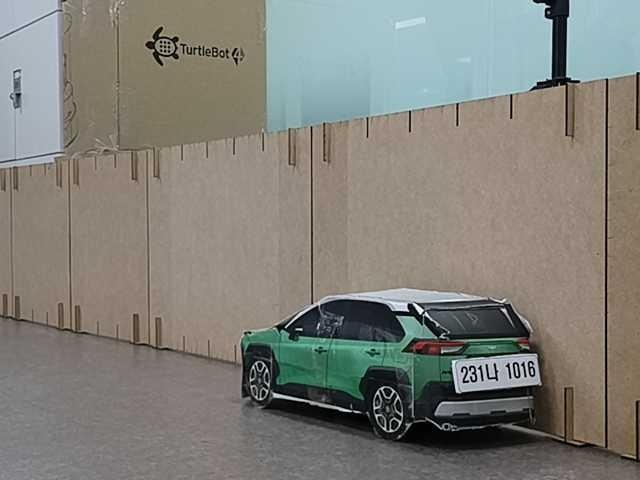car: (232, 280, 549, 445)
id: (447, 353, 545, 394)
